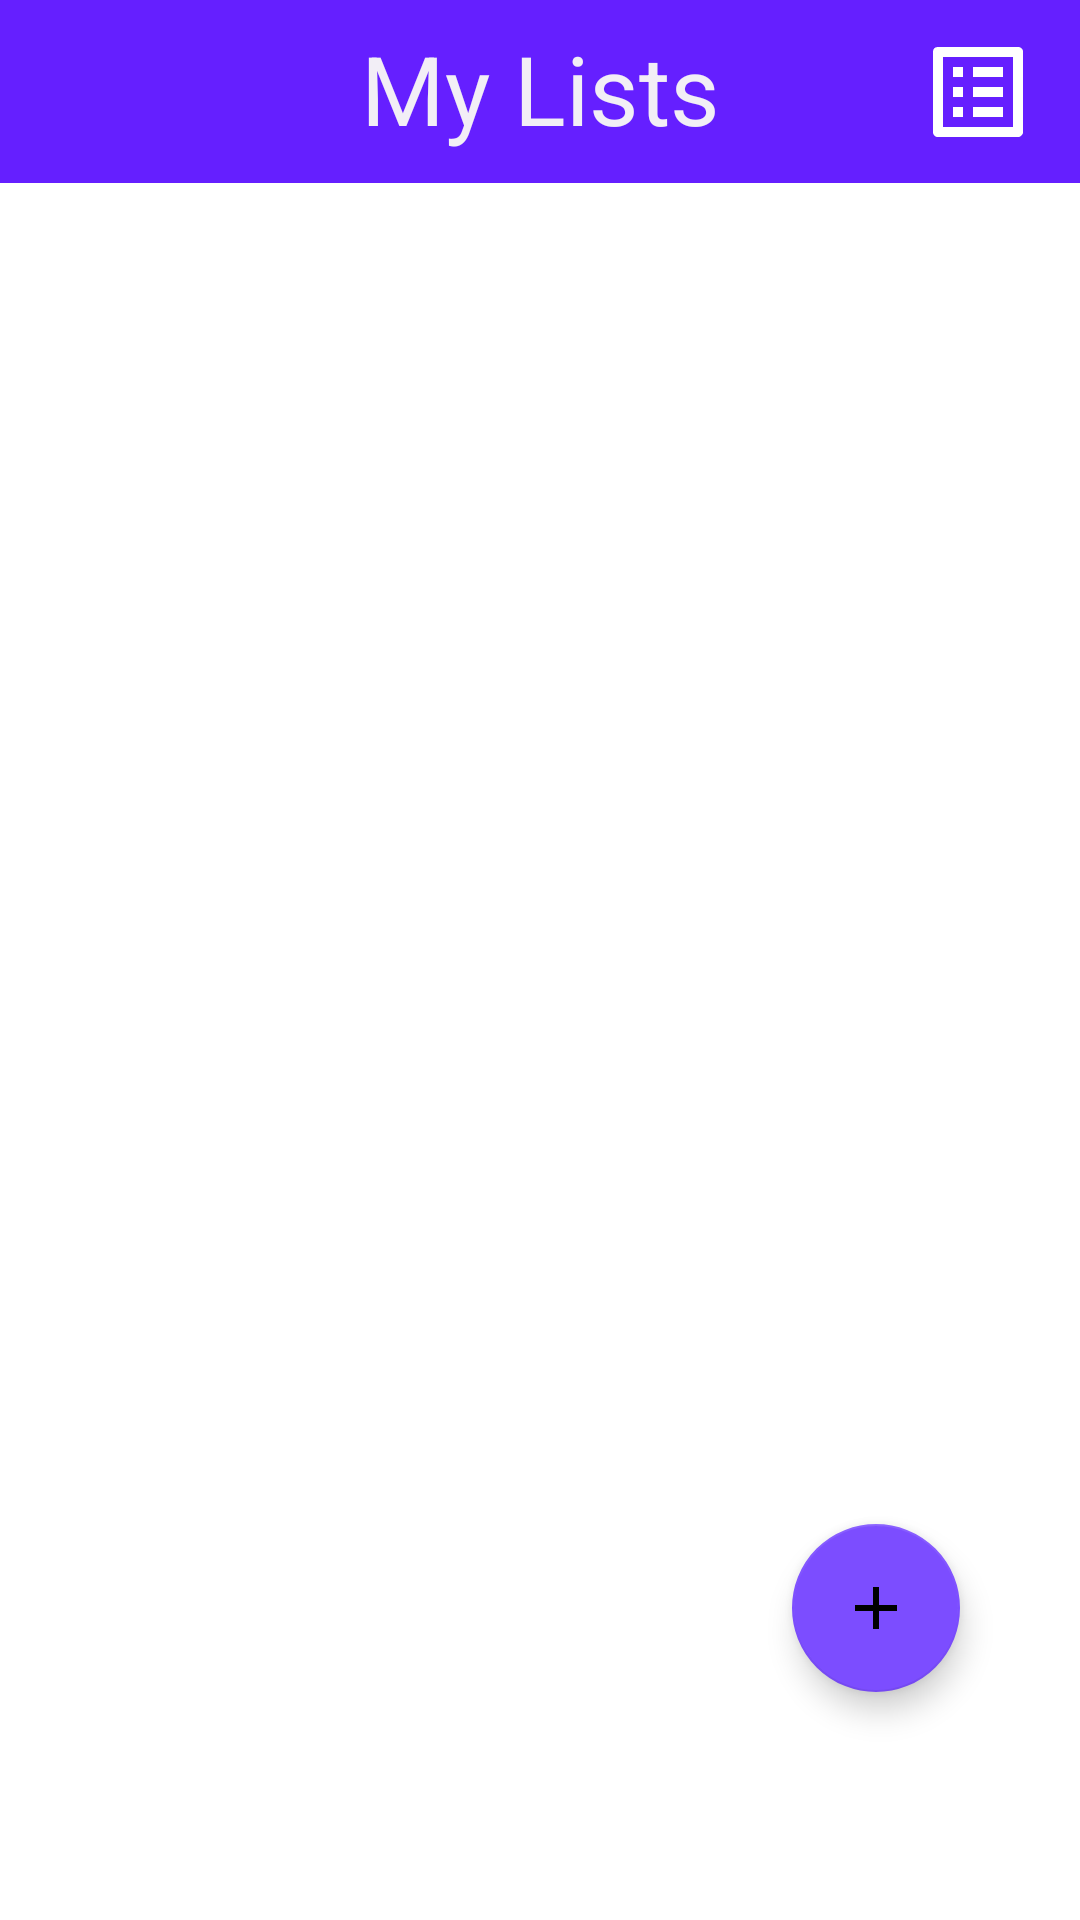

Named icons in this screenshot (1080 x 1920) and their bounding boxes, [x1=x1, y1=y1, x2=x2, y2=y2]:
add: [x1=792, y1=1524, x2=960, y2=1692]
list: [x1=933, y1=47, x2=1023, y2=137]
